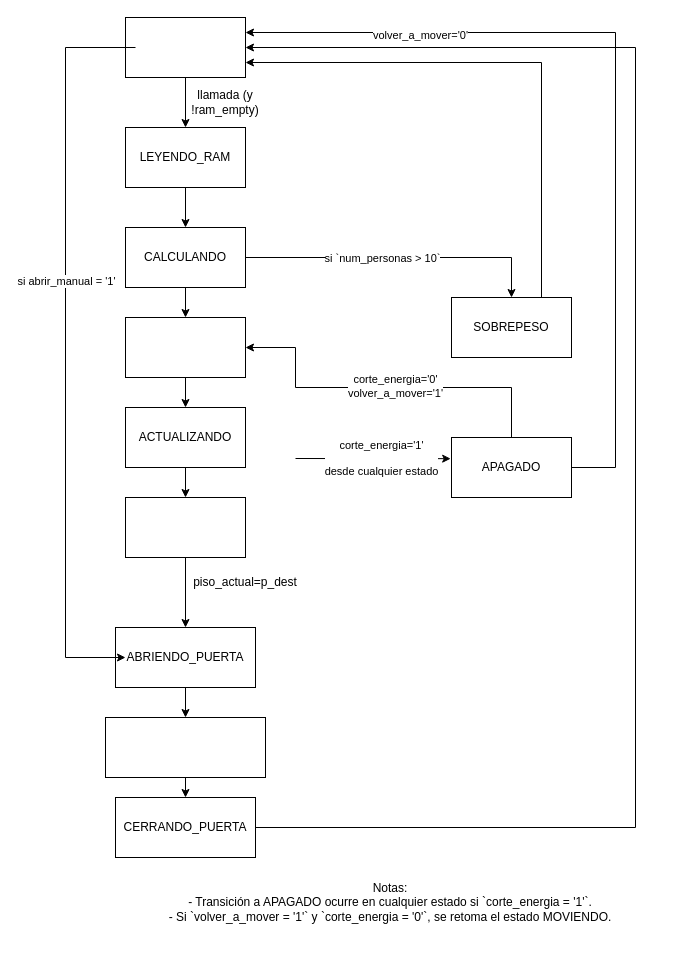
The diagram is 693 pixels wide and 955 high, and some of its shapes have lost their labels. Each missing label, with the box of its shape:
ESPERANDO: (124, 16, 246, 78)
ESPERANDO_PUERTA: (104, 716, 266, 778)
MOVIENDO: (124, 316, 246, 378)
VERIFICAR: (124, 496, 246, 558)
